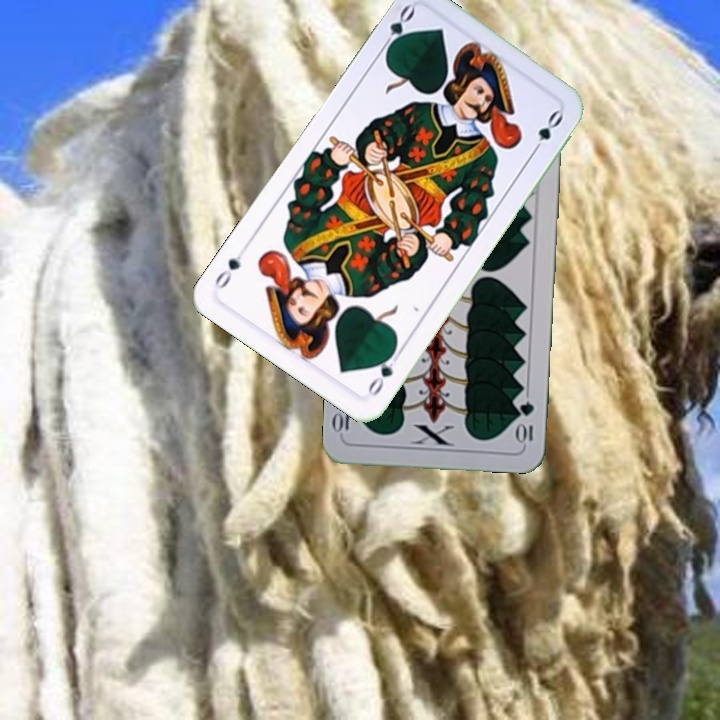G10: (515, 398, 536, 447)
GO: (376, 1, 418, 57), (363, 345, 404, 399)
